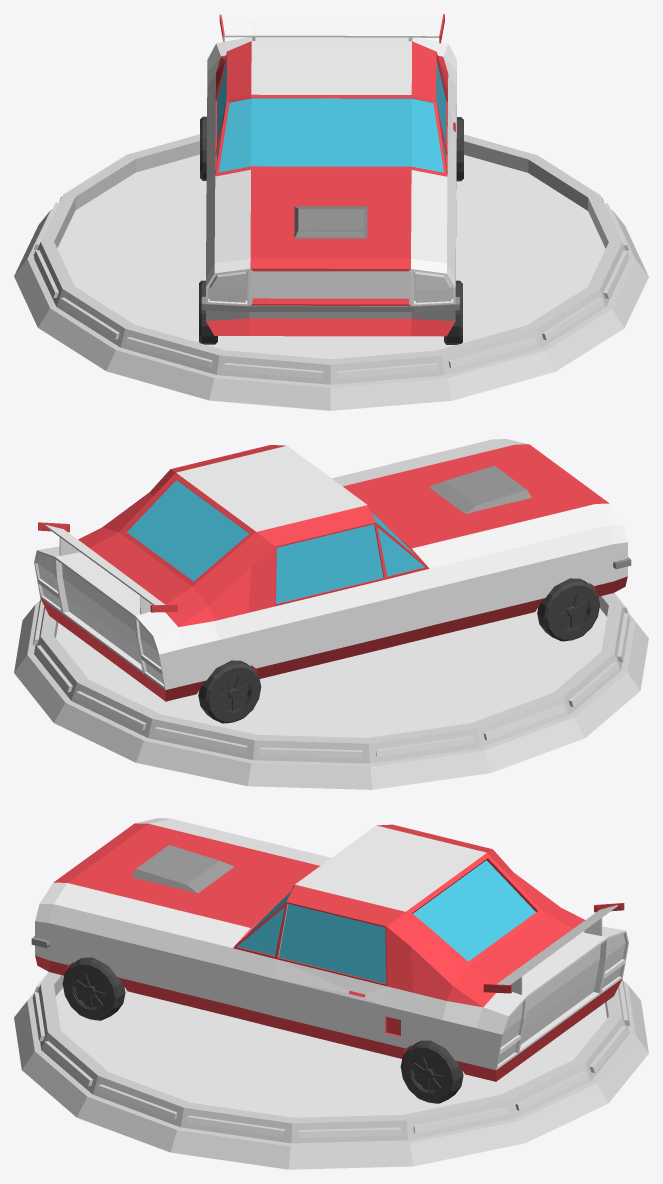
The model's file is Car-FBX.fbx.
The picture shows the model from 3 angles, top to bottom: view 1: azimuth 30°, elevation 25°; view 2: azimuth 150°, elevation 25°; view 3: azimuth 270°, elevation 25°; orthographic projection.
Parts seen in each view (by area): view 1: Cylinder.001, Cylinder; view 2: Cylinder, Cylinder.001; view 3: Cylinder, Cylinder.001.
Part boxes in pixels (x1,y1,x2,y2): Cylinder.001: (14,134,648,410); Cylinder: (199,14,463,344); Cylinder: (34,439,631,723); Cylinder.001: (14,592,648,789); Cylinder: (31,818,628,1103); Cylinder.001: (14,972,648,1169).
Bounding box in the file's own units: 421 × 133 × 421.
